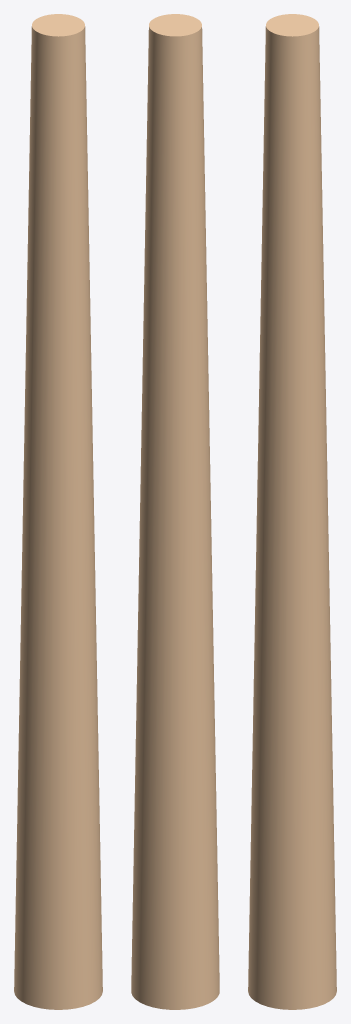
Rendered from Column.fbx.
The picture shows the model from 3 angles, left to right: view 1: azimuth 90°, elevation 25°; view 2: azimuth 150°, elevation 25°; view 3: azimuth 270°, elevation 25°; orthographic projection.
Visible parts, largest first — view 1: Column_blockout.001; view 2: Column_blockout.001; view 3: Column_blockout.001.
Boxes of the visible parts, left/top/right/bottom form: Column_blockout.001: left=14, top=14, right=102, bottom=1009; Column_blockout.001: left=131, top=14, right=219, bottom=1009; Column_blockout.001: left=248, top=14, right=336, bottom=1009.
Size of the model in its own units: 1 by 12 by 1.
